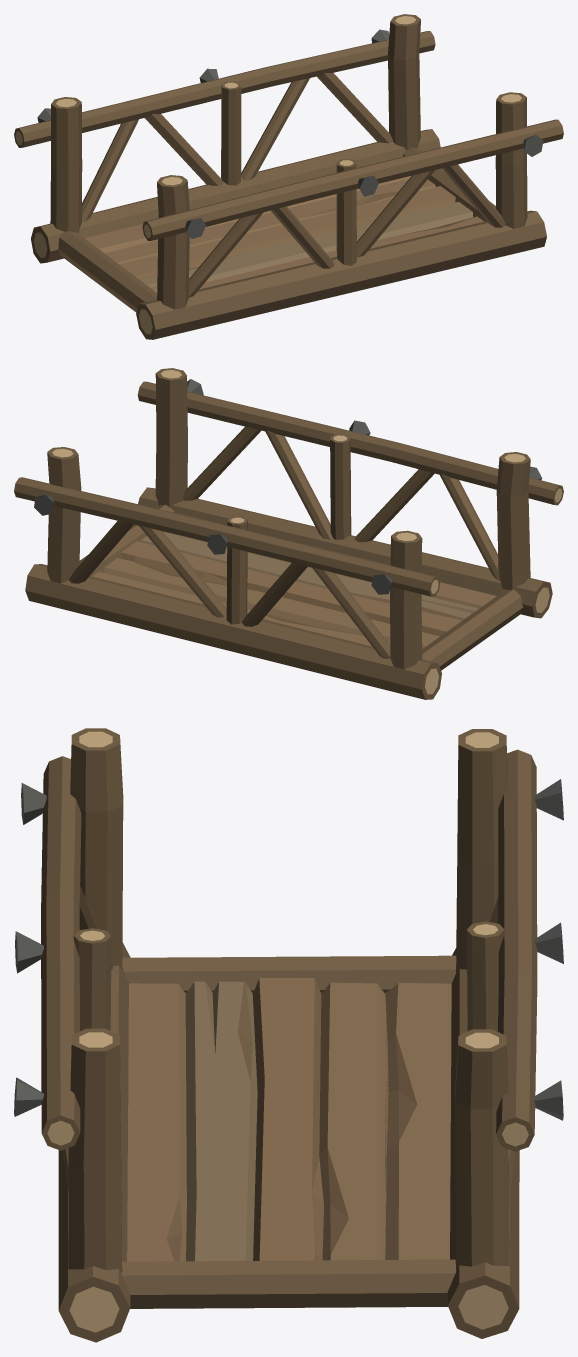
The model's file is rpgpp_ag_gate_balcony_01b.fbx.
3 renders of one model, top to bottom at view 1: azimuth 30°, elevation 25°; view 2: azimuth 150°, elevation 25°; view 3: azimuth 270°, elevation 25°, orthographic. The views are drawn at different scales.
Parts seen in each view (by area): view 1: rpgpp_ag_gate_balcony_01b; view 2: rpgpp_ag_gate_balcony_01b; view 3: rpgpp_ag_gate_balcony_01b.
Boxes of the visible parts, x1=… form: rpgpp_ag_gate_balcony_01b: x1=14, y1=14, x2=563, y2=339; rpgpp_ag_gate_balcony_01b: x1=14, y1=368, x2=563, y2=699; rpgpp_ag_gate_balcony_01b: x1=14, y1=728, x2=563, y2=1342.
Bounding box in the file's own units: 4.83 × 1.72 × 3.06.
